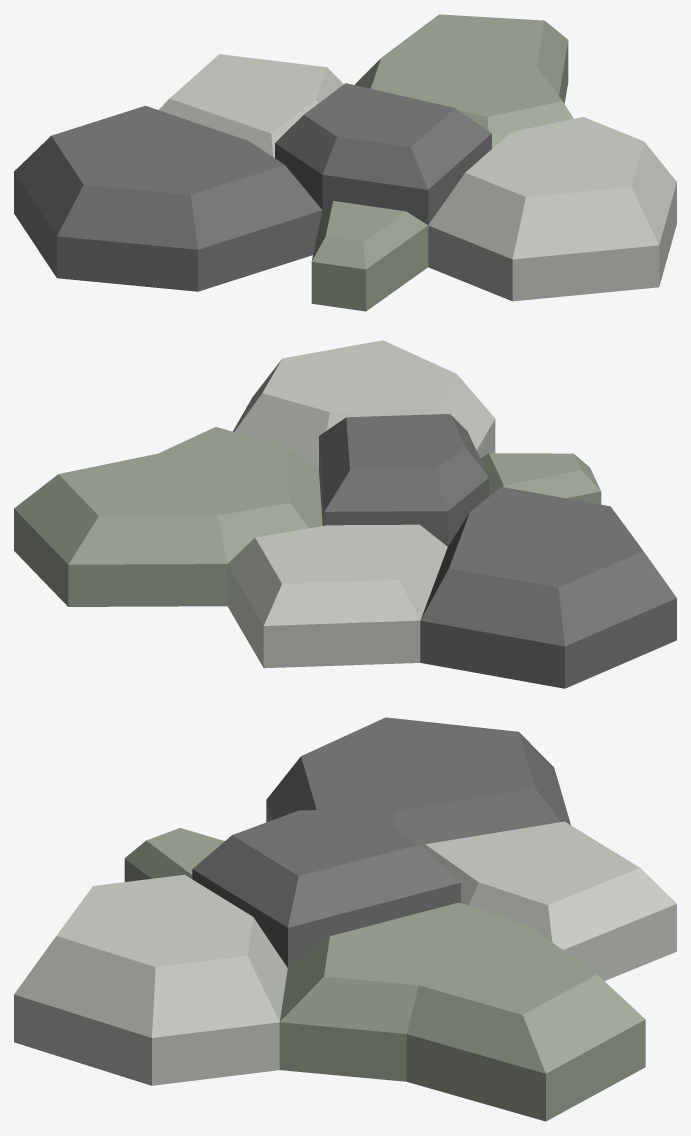
The model's file is rock-type4-02-green.glb.
3 renders of one model, top to bottom at view 1: azimuth 30°, elevation 25°; view 2: azimuth 150°, elevation 25°; view 3: azimuth 270°, elevation 25°, orthographic. The views are drawn at different scales.
Visible parts, largest first — view 1: Rock_Type4_02_mesh; view 2: Rock_Type4_02_mesh; view 3: Rock_Type4_02_mesh.
Part boxes in pixels (x1,y1,x2,y2): Rock_Type4_02_mesh: [14, 14, 676, 311]; Rock_Type4_02_mesh: [14, 340, 676, 688]; Rock_Type4_02_mesh: [14, 717, 676, 1121].
Size of the model in its own units: 3.03 by 0.53 by 2.61.
Materials: 1 (1 with a texture image).
